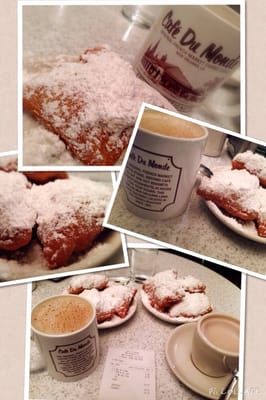pizza: (135, 11, 240, 117), (121, 103, 211, 223), (30, 294, 100, 380), (190, 313, 240, 378)
soup: (196, 163, 266, 243)
